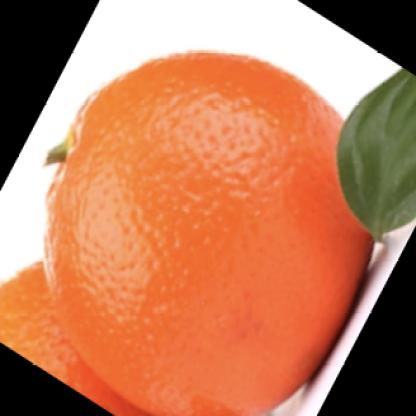fresh: (45, 47, 371, 416)
